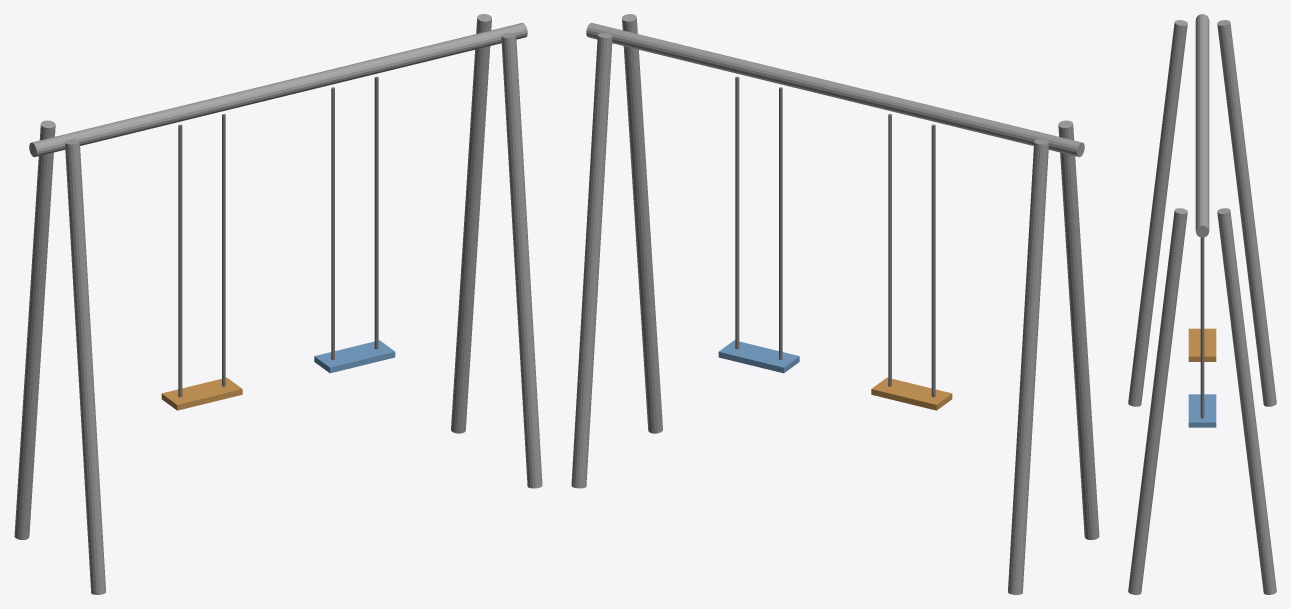
File: SwingSet.glb
3 views of the same model, side by side, from view 1: azimuth 30°, elevation 25°; view 2: azimuth 150°, elevation 25°; view 3: azimuth 270°, elevation 25° (orthographic). The views are drawn at different scales.
Parts seen in each view (by area): view 1: world; view 2: world; view 3: world.
Boxes of the visible parts, <box> form: world: <box>14,14,542,594</box>; world: <box>571,14,1099,594</box>; world: <box>1128,14,1276,594</box>.
Size of the model in its own units: 4.5 by 3.79 by 1.34.
